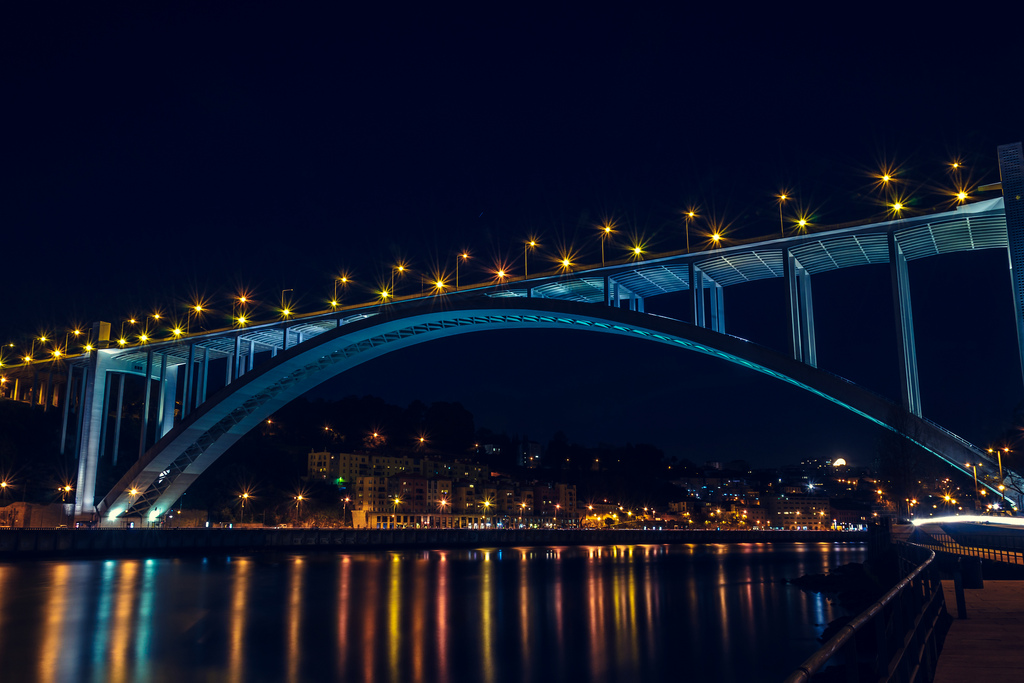arrabida: (0, 141, 1023, 527)
